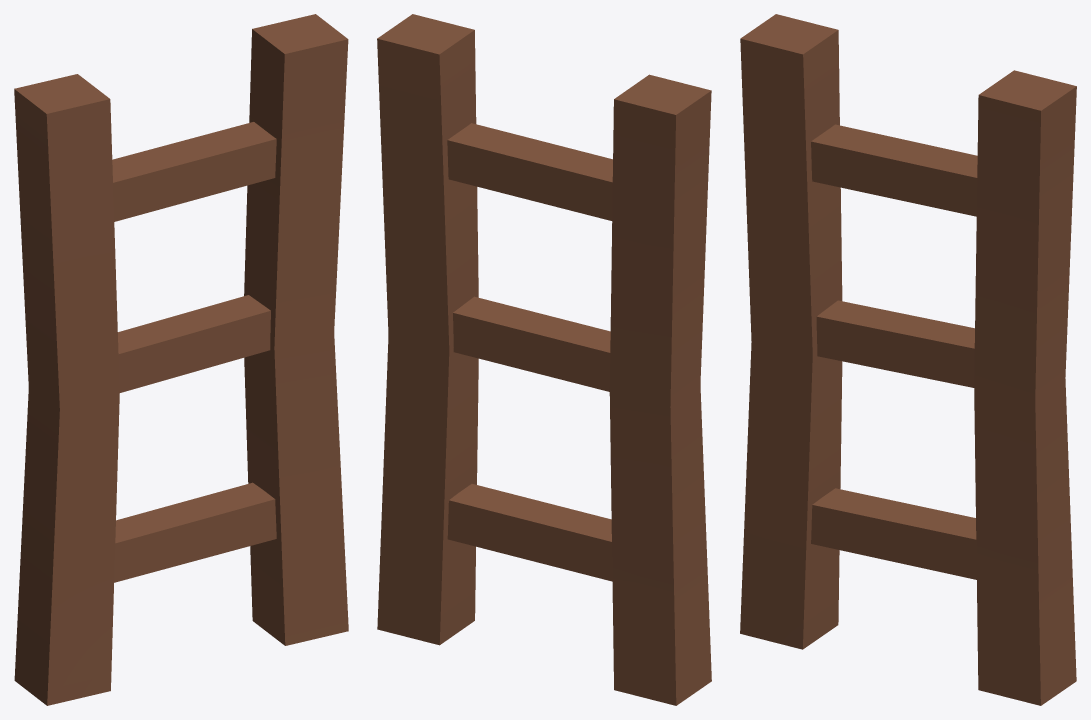
The model's file is Ladder_Small.fbx.
3 renders of one model, left to right at view 1: azimuth 30°, elevation 25°; view 2: azimuth 150°, elevation 25°; view 3: azimuth 330°, elevation 25°, orthographic.
Parts seen in each view (by area): view 1: Ladder_Small; view 2: Ladder_Small; view 3: Ladder_Small.
Part boxes in pixels (<box>): Ladder_Small: <box>14,14,348,705</box>; Ladder_Small: <box>377,14,711,705</box>; Ladder_Small: <box>740,14,1076,705</box>.
Bounding box in the file's own units: 57.38 × 108 × 11.71.
